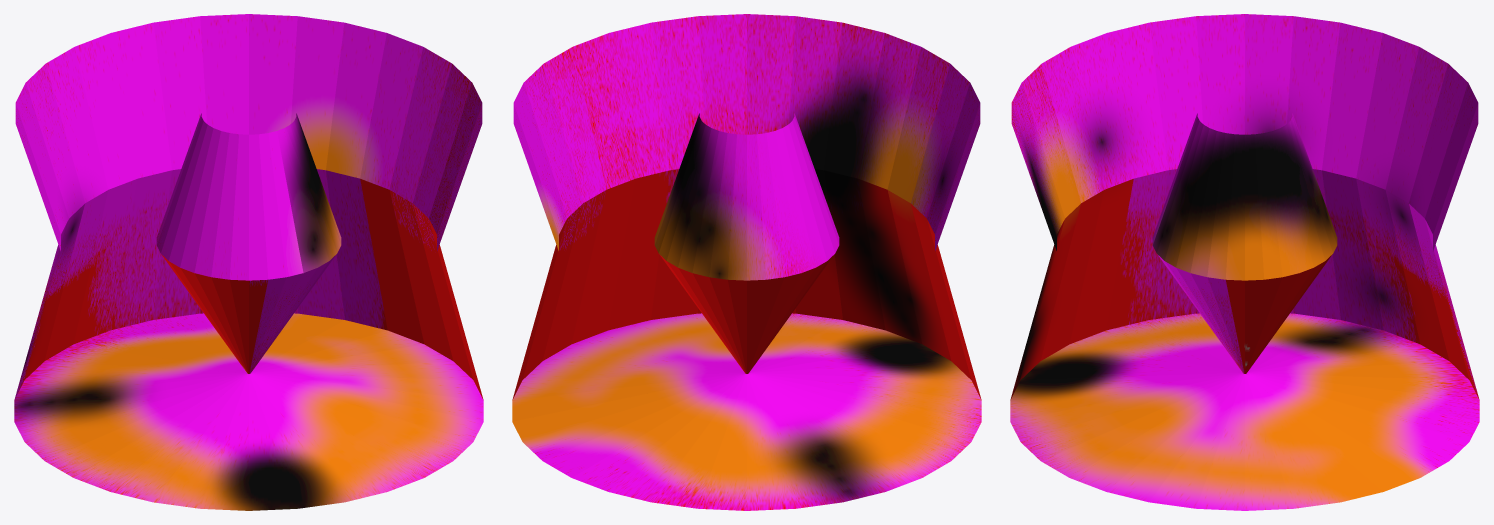
The picture shows the model from 3 angles, left to right: view 1: azimuth 30°, elevation 25°; view 2: azimuth 150°, elevation 25°; view 3: azimuth 270°, elevation 25°; orthographic projection.
Parts seen in each view (by area): view 1: algeomath; view 2: algeomath; view 3: algeomath.
Boxes of the visible parts, x1,y1,x2,y2 form: algeomath: (14,14,483,510); algeomath: (512,14,981,510); algeomath: (1010,14,1479,510).
Bounding box in the file's own units: 9.97 × 6.94 × 9.92.
1 material, 1 textured.
